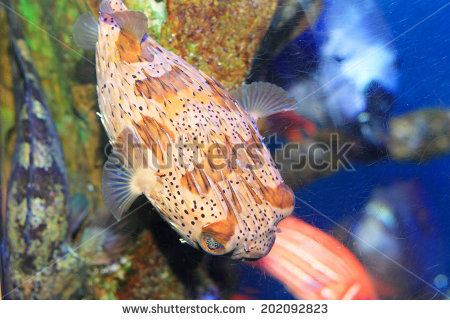Diodon_holocanthus: (78, 10, 303, 259)
